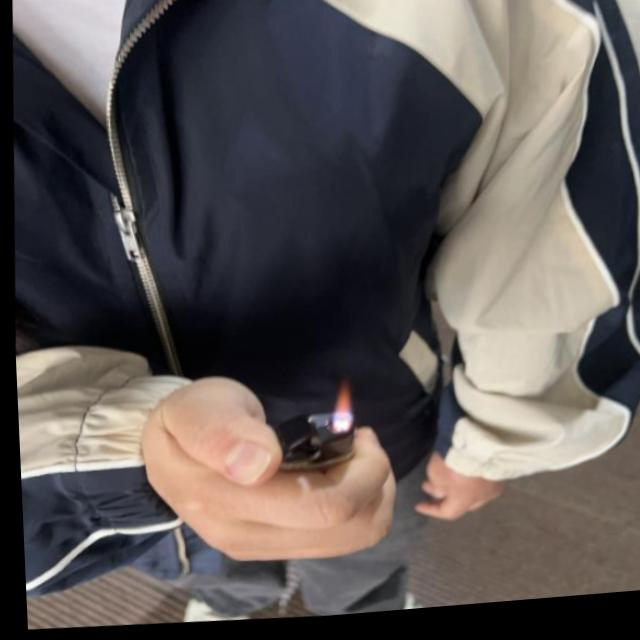Fire: (322, 384, 349, 438)
